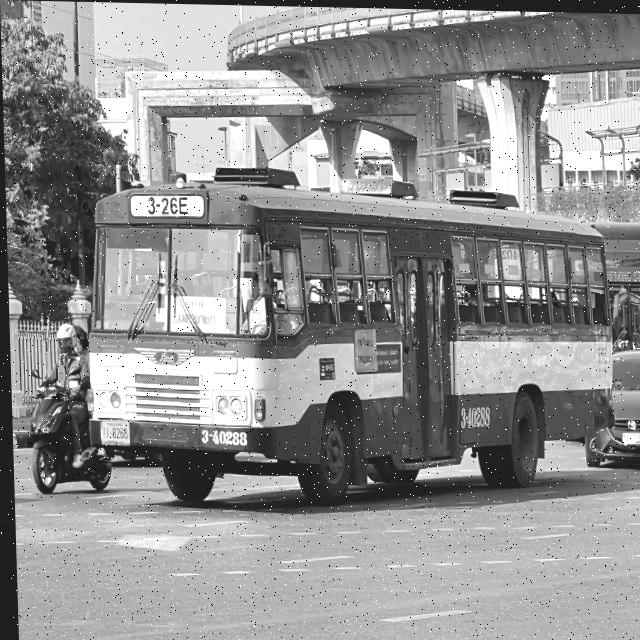BMTA-bus: (58, 165, 615, 514)
Bus-Line-Number: (141, 193, 191, 218)
Destination-Sign-Extra-Bus: (162, 294, 226, 335)
